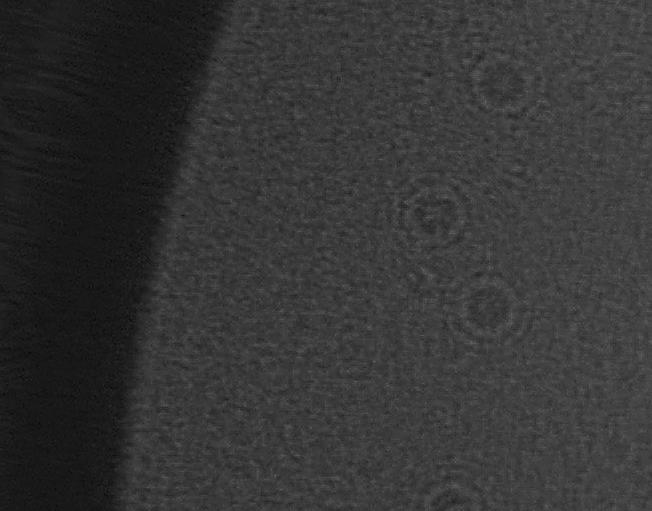bead: (379, 168, 485, 261), (445, 263, 532, 360), (456, 41, 550, 123), (390, 458, 503, 511)
